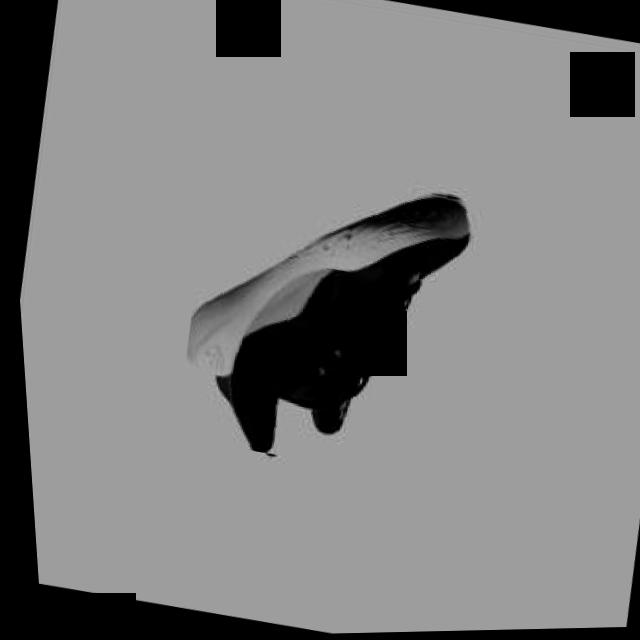shoe: (155, 150, 490, 490)
